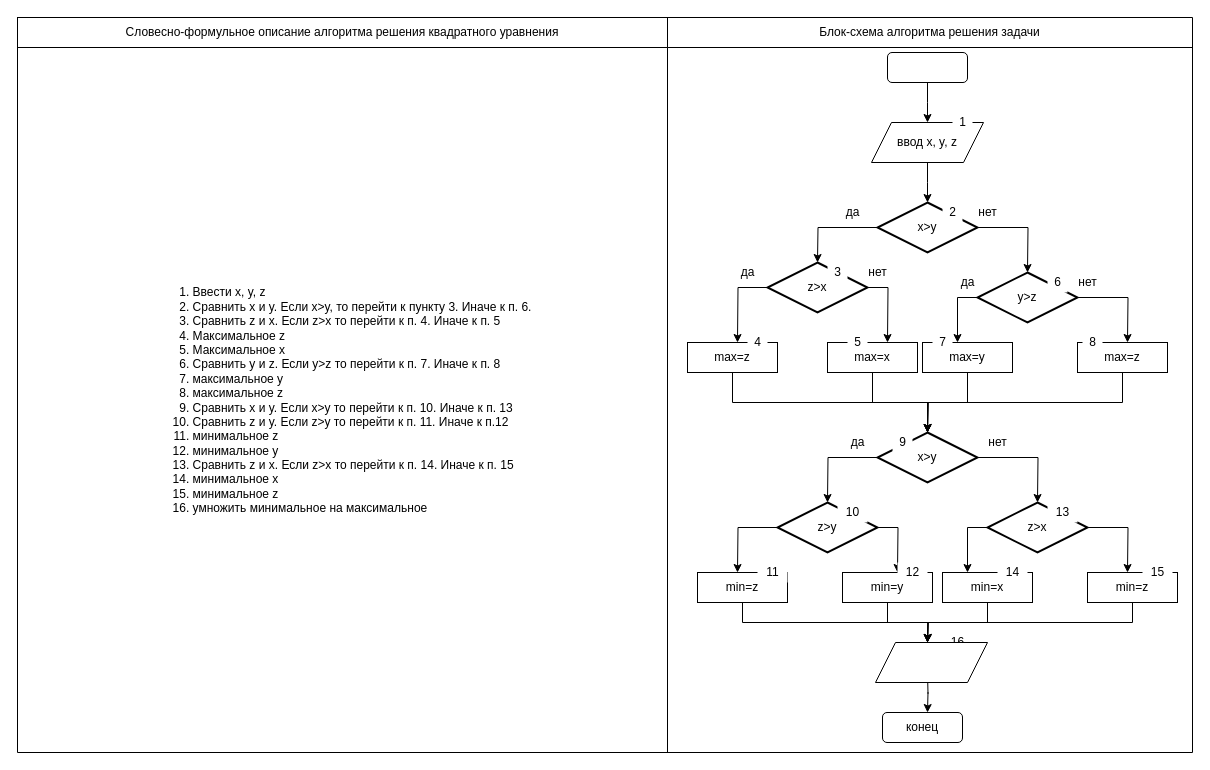
The diagram is 1210 pixels wide and 770 high, and some of its shapes have lost their labels. Each missing label, with the centre of its shape:
"min*max" goes at (x=931, y=662).
"начало" goes at (x=927, y=67).
